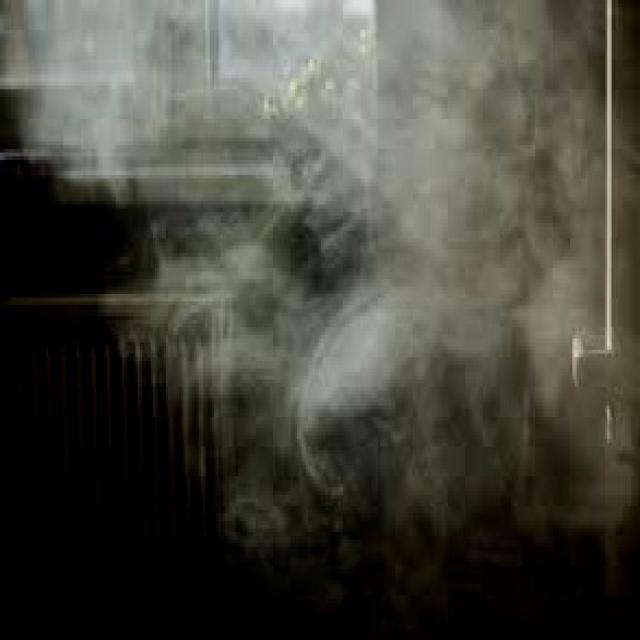smoke: (190, 4, 631, 521)
